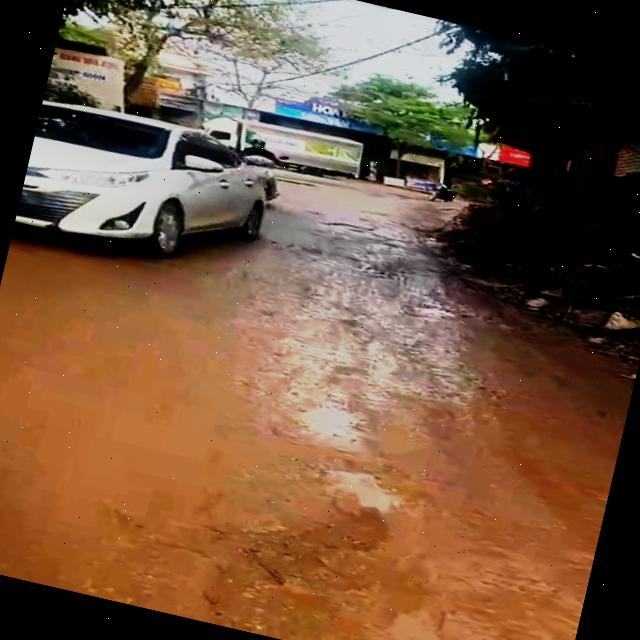pothole: (254, 381, 425, 522)
